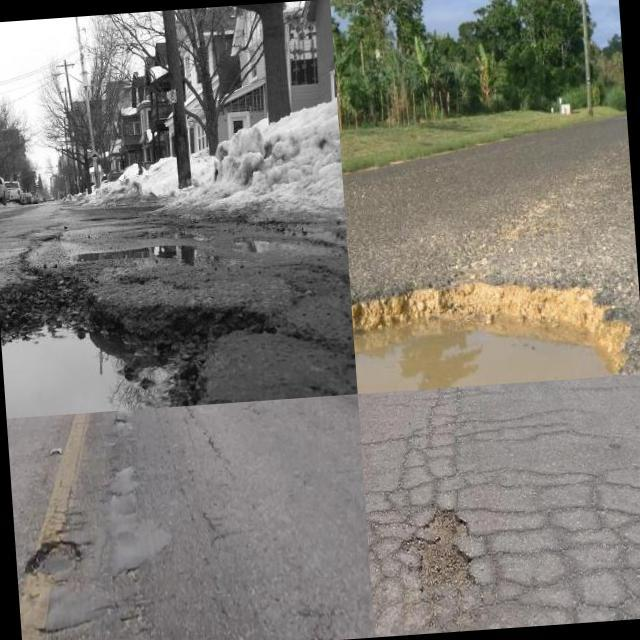Pothole: (0, 273, 260, 418), (351, 276, 628, 394), (411, 507, 478, 599), (22, 537, 83, 577)
